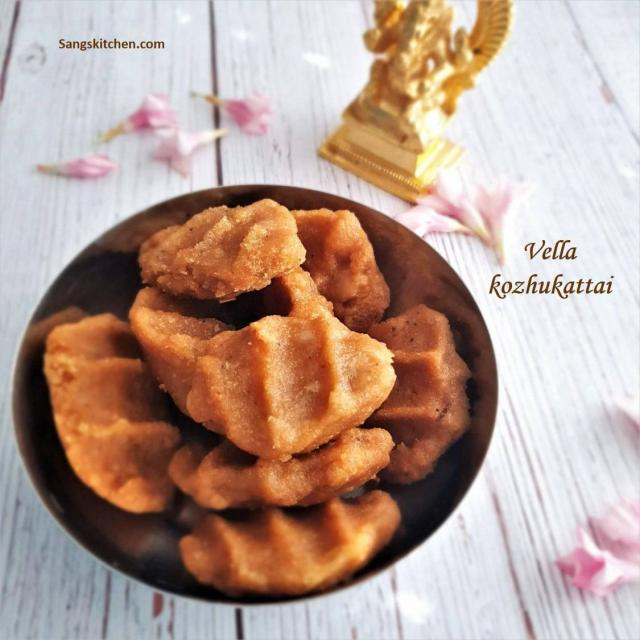pidi kolukattai: (27, 148, 473, 600)
